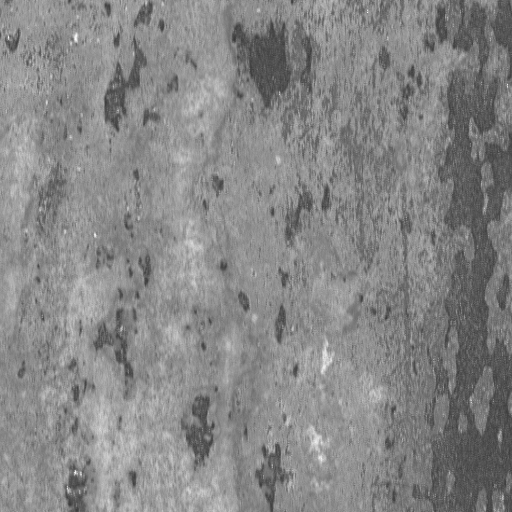aokeng: (429, 1, 511, 512), (231, 21, 294, 114)
